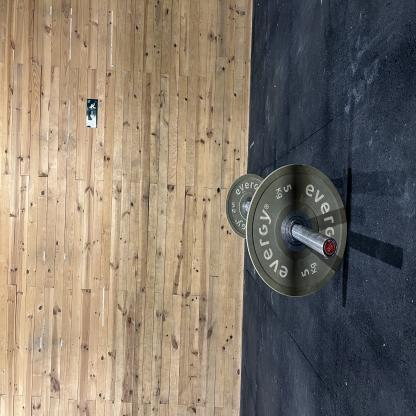barbell: (89, 328, 191, 416)
